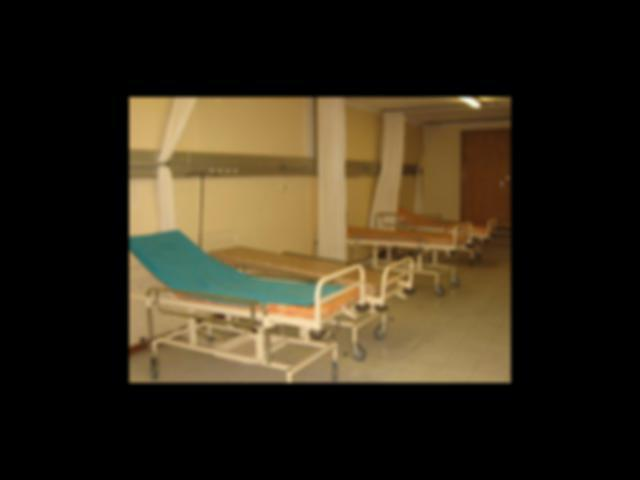Escaleras: (480, 226, 510, 243)
Puerta: (461, 131, 509, 228)
